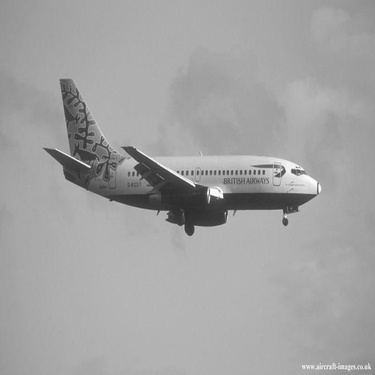airplane: (22, 59, 331, 247)
